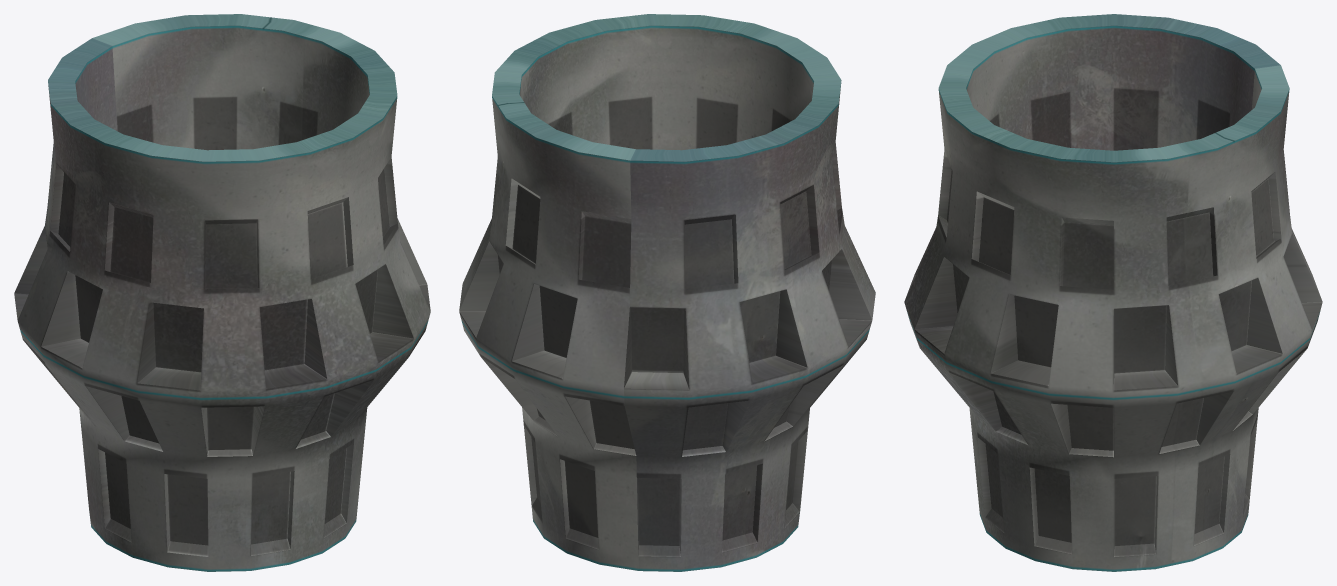
File: Leg Piece.fbx
3 views of the same model, side by side, from view 1: azimuth 30°, elevation 25°; view 2: azimuth 150°, elevation 25°; view 3: azimuth 270°, elevation 25° (orthographic).
Parts seen in each view (by area): view 1: pPipe1; view 2: pPipe1; view 3: pPipe1.
Boxes of the visible parts, <box> form: pPipe1: <box>14,14,430,571</box>; pPipe1: <box>459,14,875,571</box>; pPipe1: <box>904,14,1322,571</box>.
Bounding box in the file's own units: 16.28 × 18.33 × 16.28.
Materials: 1 (1 with a texture image).
